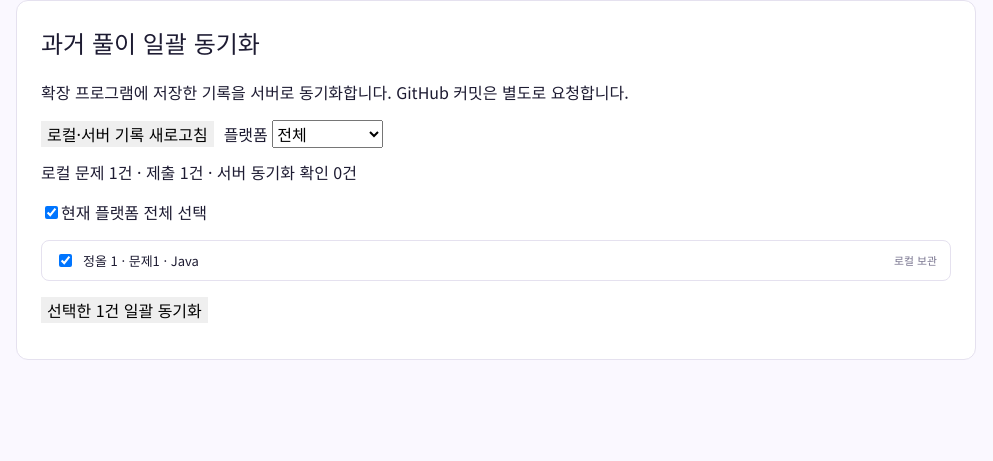
stops before upload when authenticated account changes
The image size is (993, 461).
Click the button "선택한 1건 일괄 동기화" at (124, 310), box [41,297,208,323]
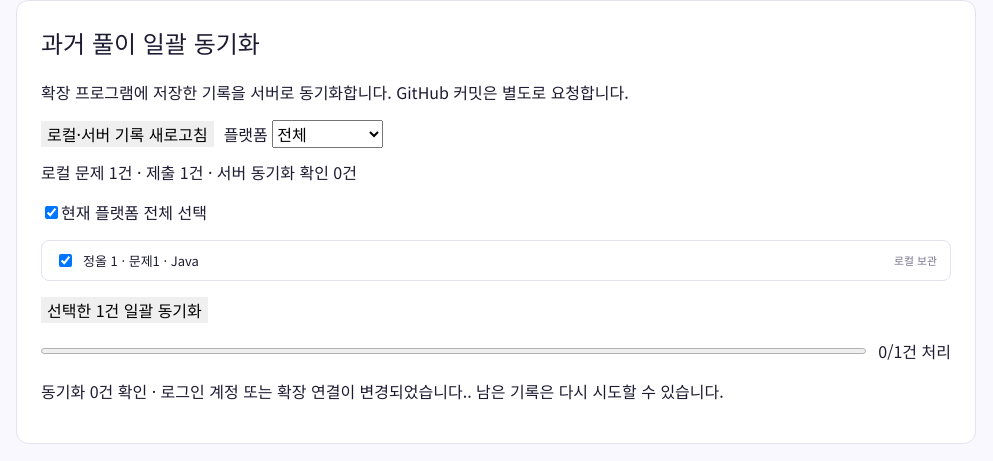
Check: the text "동기화 0건 확인 · 로그인 계정 또는 확장 연결이 변경되었습니다.. 남은 기록은 다시 시도할 수 있습니다." is shown, box [41,379,724,403]
